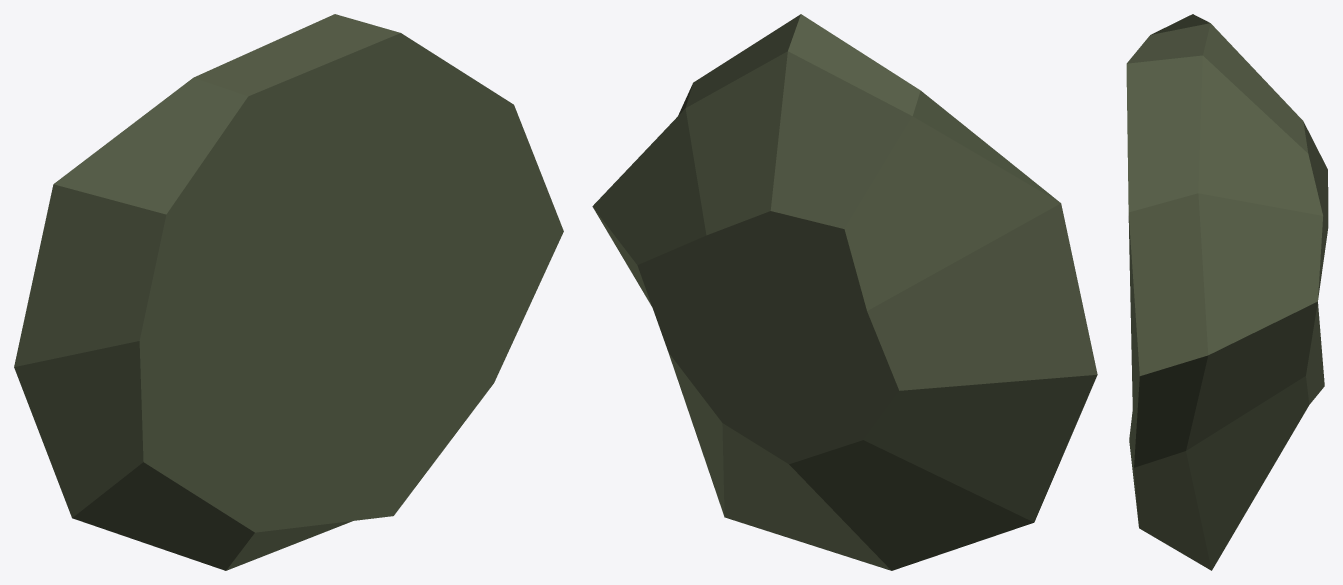
File: Rock_Medium.fbx
3 renders of one model, left to right at view 1: azimuth 30°, elevation 25°; view 2: azimuth 150°, elevation 25°; view 3: azimuth 270°, elevation 25°, orthographic. The views are drawn at different scales.
Parts seen in each view (by area): view 1: Rock_Medium_LOD0; view 2: Rock_Medium_LOD0; view 3: Rock_Medium_LOD0.
Boxes of the visible parts, box(x1,y1,x2,y2) form: Rock_Medium_LOD0: box(14, 14, 563, 570); Rock_Medium_LOD0: box(592, 14, 1097, 570); Rock_Medium_LOD0: box(1126, 14, 1328, 570).
Size of what is drawn, in the model's own units: 290 by 277 by 99.88.
